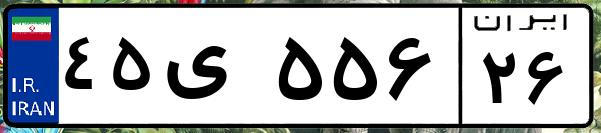2: (475, 38, 525, 113)
4: (57, 26, 110, 100)
5: (270, 28, 330, 110), (330, 28, 385, 110), (110, 28, 158, 98)
6: (385, 28, 445, 110), (525, 38, 570, 115)
ی: (158, 20, 270, 120)
